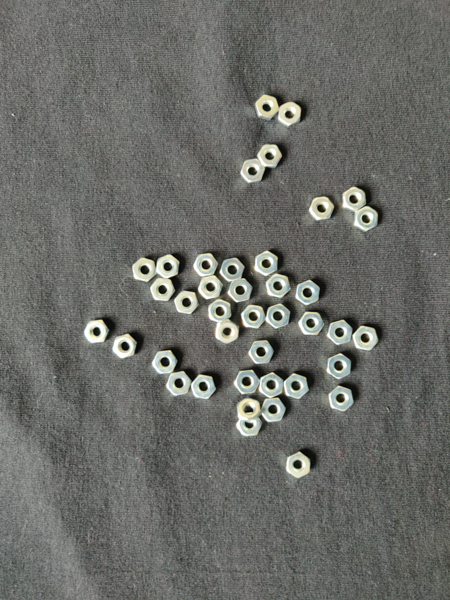nut: (284, 374, 310, 400), (234, 370, 261, 395), (327, 353, 352, 380), (353, 326, 380, 351), (329, 386, 354, 412), (259, 373, 284, 399), (296, 280, 321, 306), (266, 274, 292, 299), (287, 452, 311, 479), (261, 398, 286, 423), (328, 320, 353, 345), (266, 304, 291, 329), (220, 258, 245, 283), (241, 159, 266, 184), (241, 305, 267, 329), (174, 291, 200, 315), (228, 278, 254, 302), (150, 278, 176, 302), (255, 251, 279, 277), (193, 253, 219, 277), (298, 313, 325, 336), (355, 206, 378, 233), (191, 375, 216, 399), (237, 399, 262, 423), (167, 372, 192, 396), (113, 334, 137, 359), (216, 319, 240, 344), (132, 258, 157, 282), (343, 187, 367, 212), (310, 197, 335, 221), (278, 102, 302, 127), (255, 95, 279, 120), (152, 351, 178, 374), (249, 341, 275, 364), (84, 321, 110, 344), (257, 145, 283, 168), (199, 276, 223, 300), (156, 254, 180, 278), (209, 300, 232, 323), (237, 418, 262, 438)
